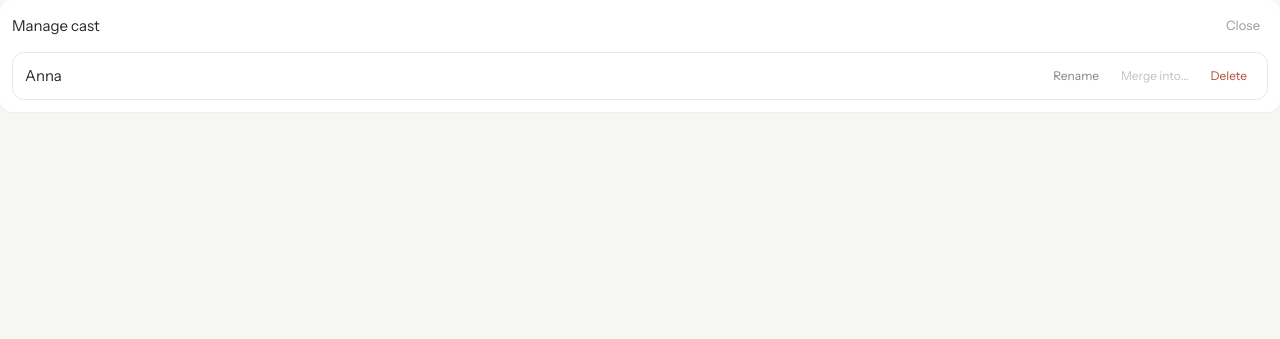
CastPanel › rolls back a rename on a 409 LOCKED_OBJECT response
Click the button with test id "cast-rename-char-a": x=1076, y=76 [1045,65,1107,87]
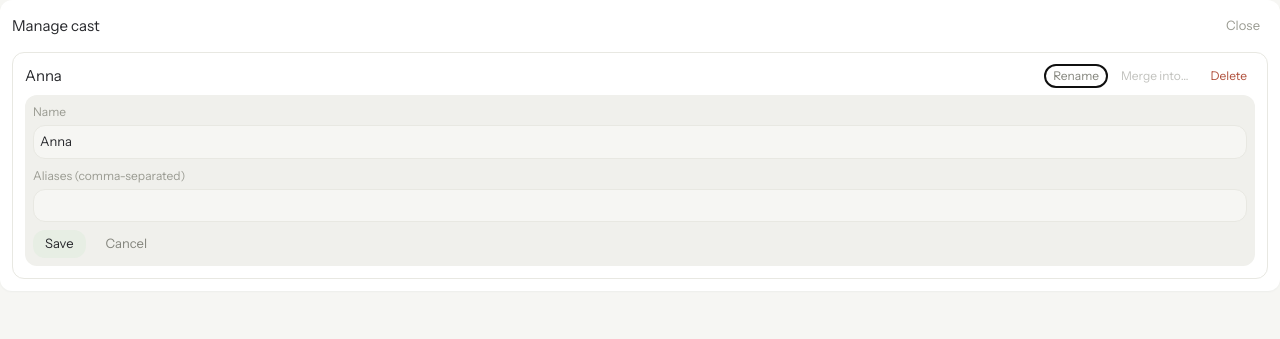
Click the button "Save": x=59, y=244 [33,230,86,258]
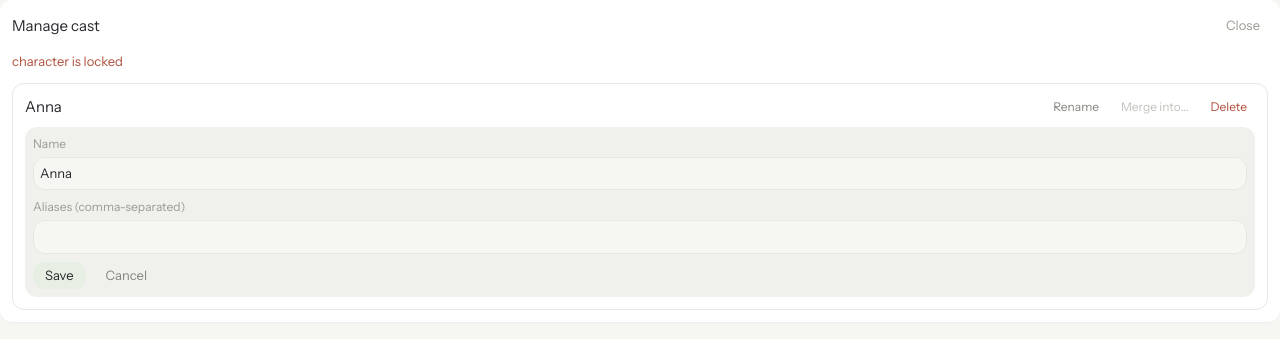
expect the message reads "character is locked": met, box [12,52,123,68]
